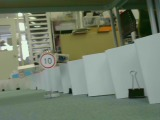speed_10: (38, 53, 57, 68)
